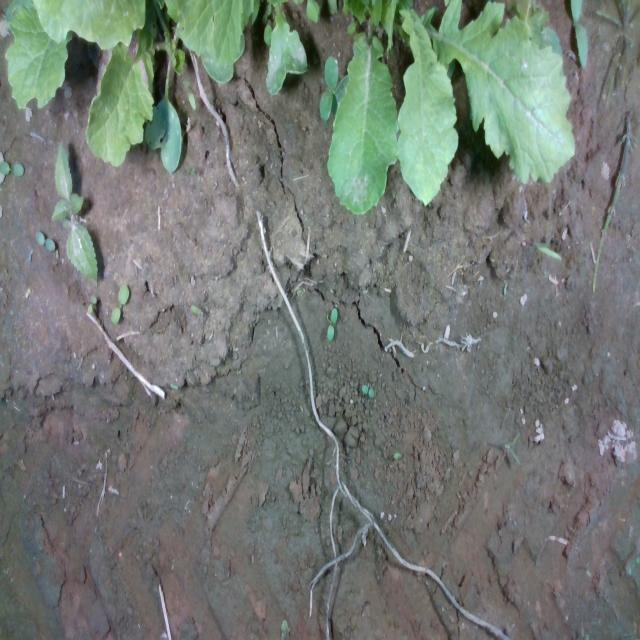weed: (34, 228, 56, 252)
